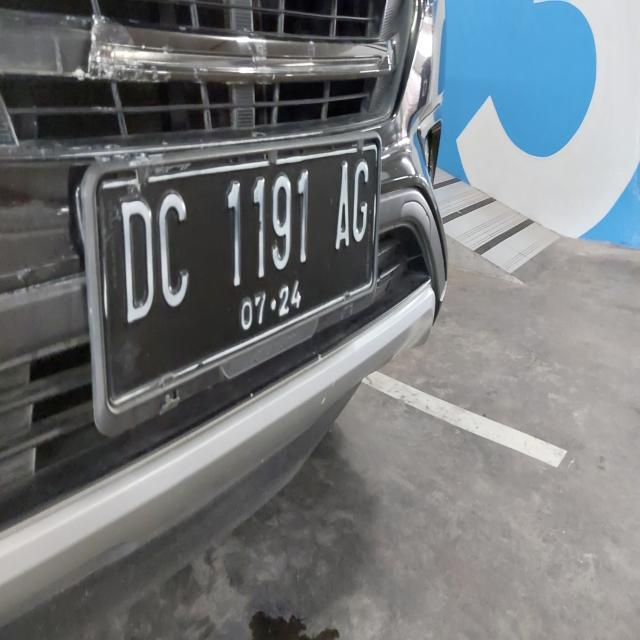1: (213, 177, 252, 290), (246, 173, 272, 290), (295, 170, 319, 276)
9: (268, 173, 293, 278)
A: (333, 160, 352, 254)
C: (154, 186, 200, 324)
D: (112, 193, 156, 326)
G: (354, 156, 370, 248)
